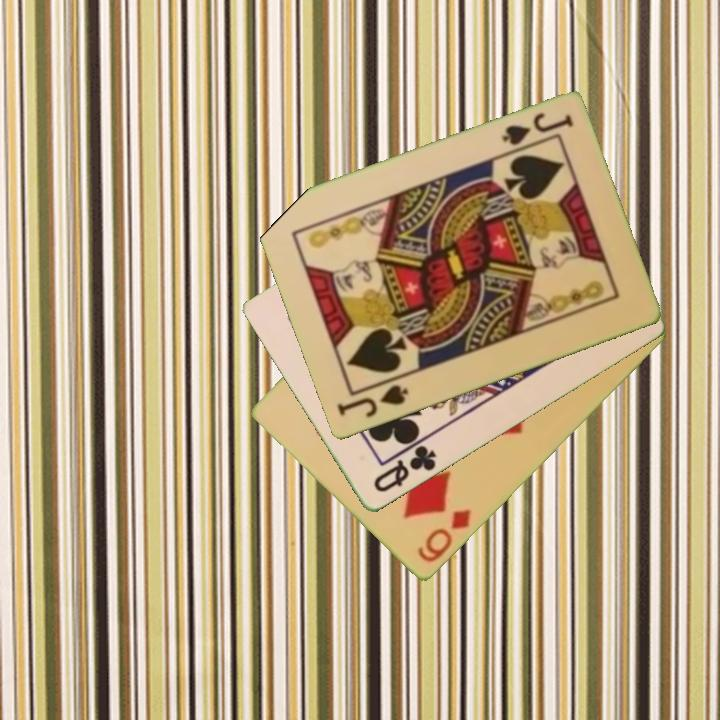6d: (414, 505, 474, 566)
Js: (333, 381, 411, 421), (498, 109, 576, 149)
Qc: (369, 442, 440, 496)
